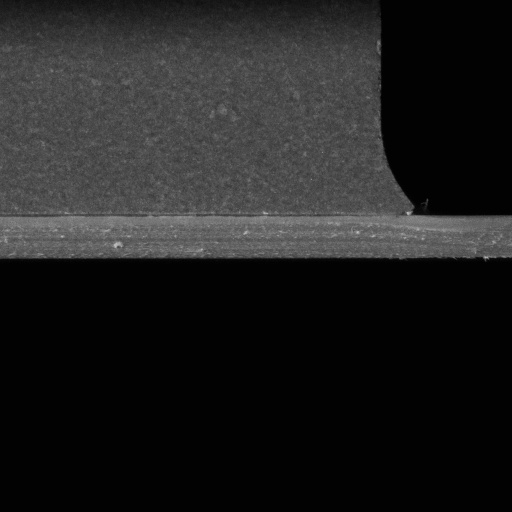changdai: (403, 202, 511, 264)
